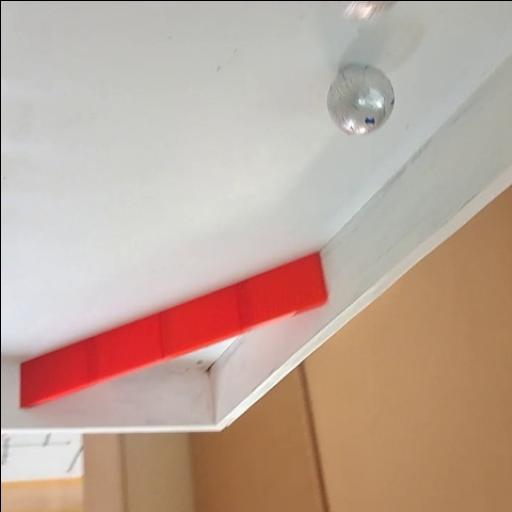alive: (324, 63, 395, 136), (336, 0, 400, 21)
